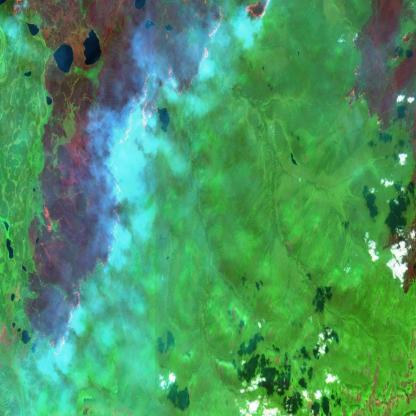fire: (0, 0, 231, 364), (237, 0, 276, 31)
